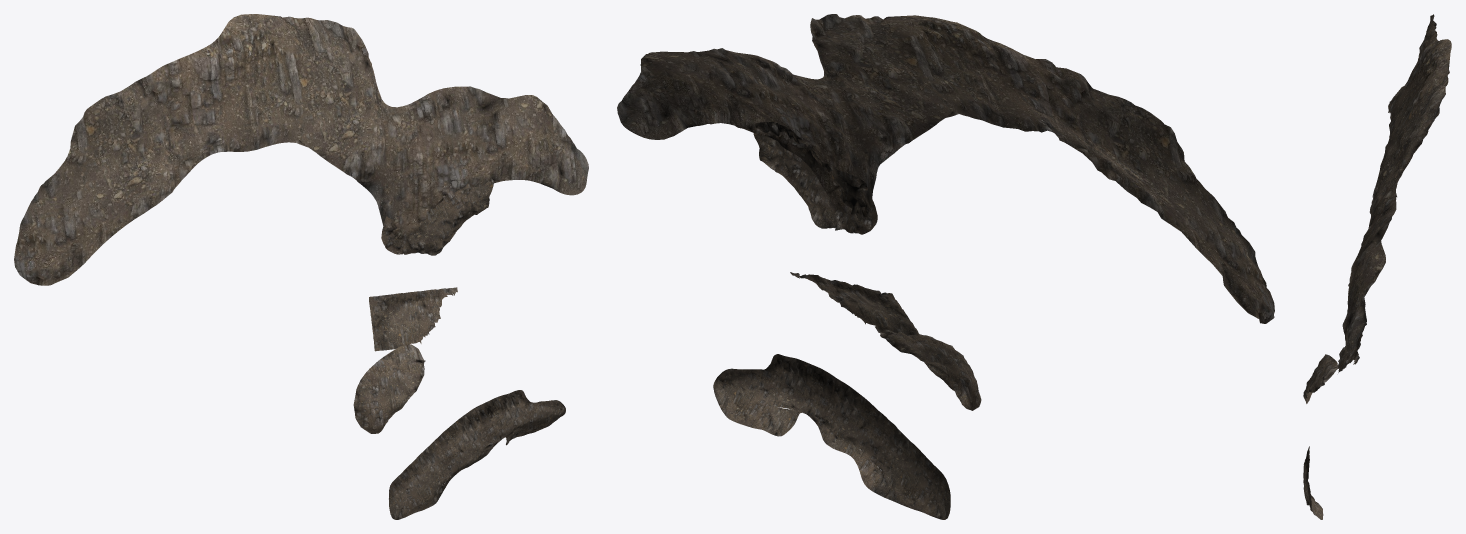
File: stijena_kosa.glb
The picture shows the model from 3 angles, left to right: view 1: azimuth 30°, elevation 25°; view 2: azimuth 150°, elevation 25°; view 3: azimuth 270°, elevation 25°; orthographic projection. The views are drawn at different scales.
Parts seen in each view (by area): view 1: Background_Tree_Atlas.019_Sloped_Rock_0; view 2: Background_Tree_Atlas.019_Sloped_Rock_0; view 3: Background_Tree_Atlas.019_Sloped_Rock_0.
Part boxes in pixels (x1,y1,x2,y2): Background_Tree_Atlas.019_Sloped_Rock_0: [14, 14, 588, 519]; Background_Tree_Atlas.019_Sloped_Rock_0: [617, 14, 1274, 519]; Background_Tree_Atlas.019_Sloped_Rock_0: [1303, 14, 1451, 519].
Size of the model in its own units: 294 by 242 by 77.99.
1 material, 1 textured.
